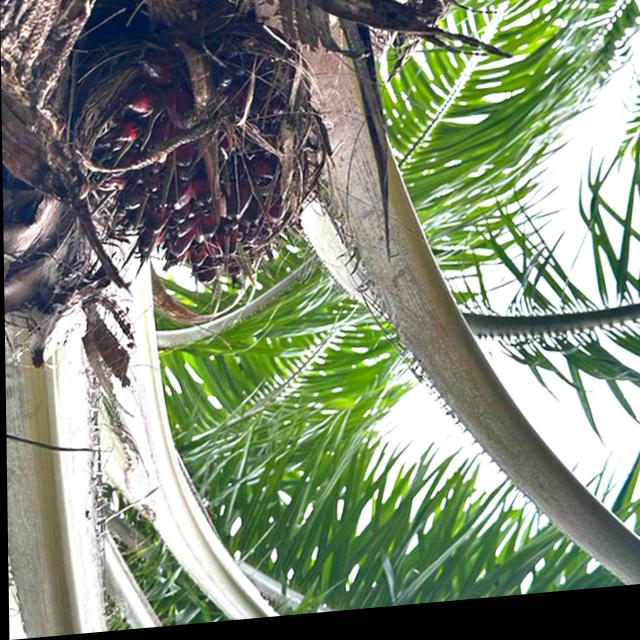ripe: (112, 24, 328, 285)
